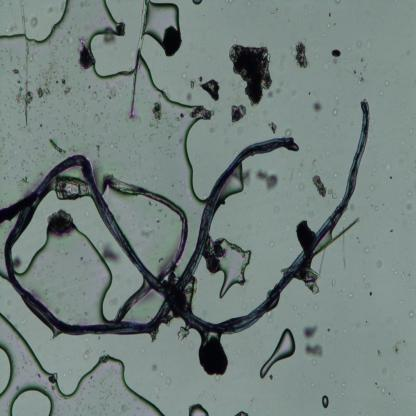Air bubble: (0, 315, 164, 415), (25, 206, 116, 325), (86, 1, 138, 80), (0, 0, 73, 49), (219, 235, 254, 300), (260, 327, 295, 378), (144, 0, 184, 40), (216, 172, 249, 204), (188, 401, 210, 415), (322, 394, 329, 408), (190, 0, 204, 6)
Background material: (223, 41, 274, 109), (296, 220, 323, 294), (11, 43, 35, 123), (197, 334, 230, 378), (45, 206, 79, 237), (253, 167, 282, 195), (75, 36, 97, 70), (33, 67, 56, 99), (290, 38, 310, 74), (199, 76, 222, 103), (56, 69, 72, 98), (44, 135, 66, 156), (188, 104, 215, 121), (229, 104, 249, 125), (102, 243, 121, 265), (303, 340, 324, 358), (312, 173, 326, 198), (308, 97, 326, 115), (392, 337, 408, 356), (175, 325, 191, 343), (301, 323, 320, 338), (102, 27, 118, 44), (153, 101, 164, 124), (12, 252, 22, 271), (330, 48, 342, 61), (184, 90, 194, 105), (28, 16, 40, 27), (233, 409, 250, 416), (270, 121, 279, 134), (189, 76, 196, 90), (407, 309, 415, 321), (285, 128, 293, 139), (379, 385, 386, 395), (356, 39, 362, 50), (331, 277, 336, 289)
Cellulose filter fibre: (127, 1, 150, 119)
Cotton: (2, 99, 372, 338)
